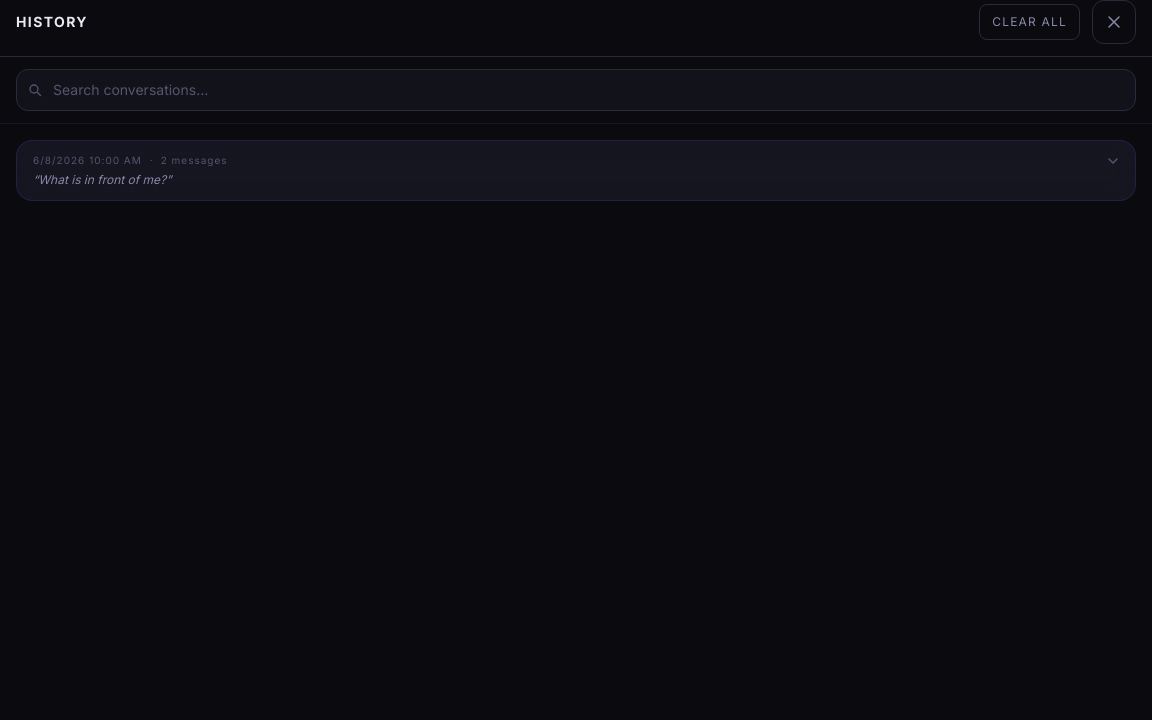
Test case: ConversationHistory › expands conversation on card click to show messages
The image size is (1152, 720).
Click the button "6/8/2026 10:00 AM · 2 messages “What is in front of me?”" at x=59, y=160, box 17,141 -> 1135,200
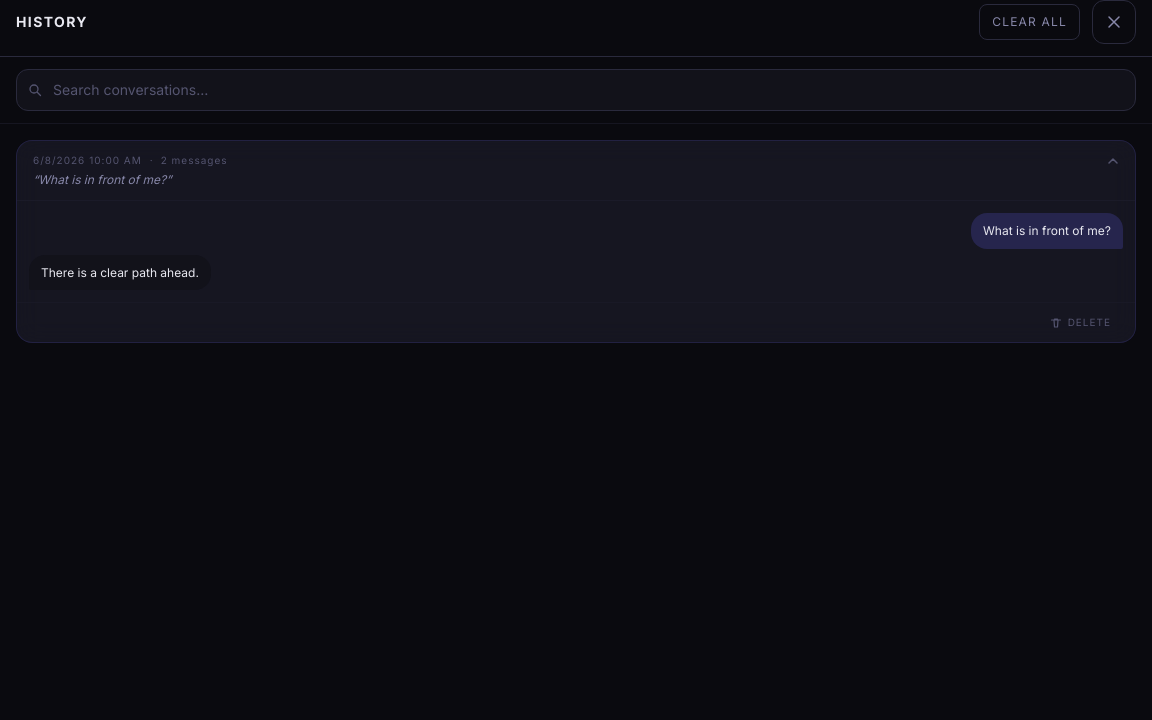
expect the text "What is in front of me?" is shown: met, box 971,213 -> 1123,248
expect the text "There is a clear path ahead." is shown: met, box 29,254 -> 211,290
